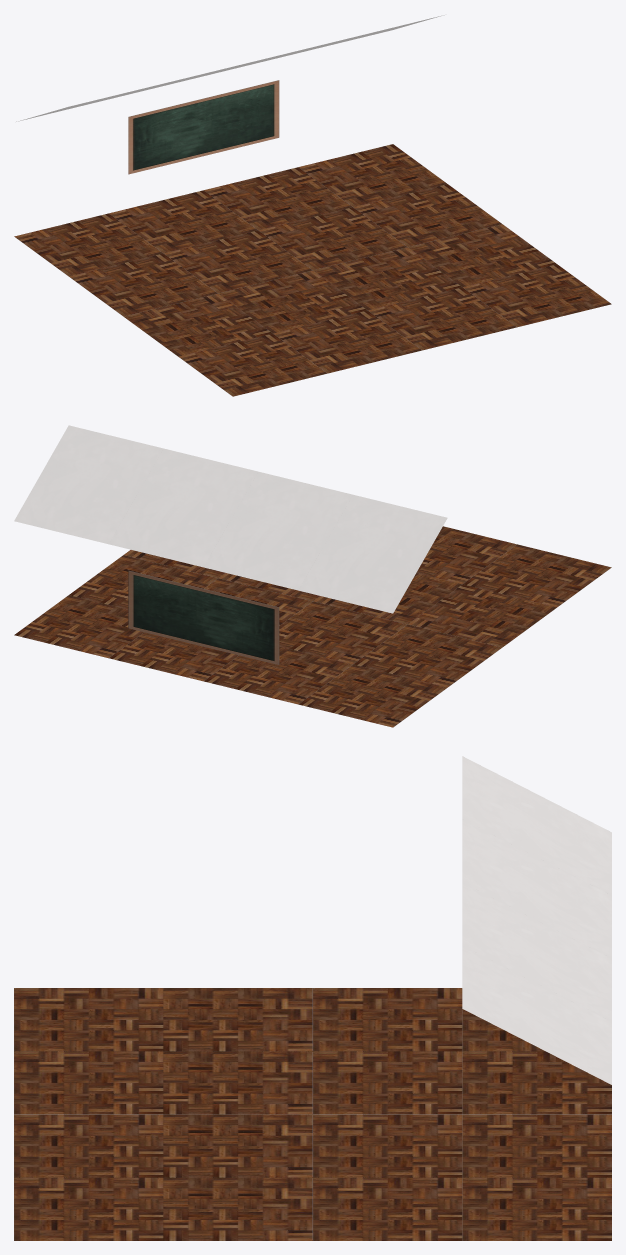
File: CENARIO - calculo.glb
3 renders of one model, top to bottom at view 1: azimuth 30°, elevation 25°; view 2: azimuth 150°, elevation 25°; view 3: azimuth 270°, elevation 25°, orthographic. The views are drawn at different scales.
Visible parts, largest first — view 1: piso, quadro, teto; view 2: piso, teto, quadro; view 3: piso, teto.
Boxes of the visible parts, x1,y1,x2,y2 form: piso: [14, 144, 611, 396]; quadro: [128, 80, 279, 174]; teto: [16, 15, 444, 121]; piso: [14, 526, 611, 727]; teto: [14, 425, 447, 613]; quadro: [128, 570, 279, 664]; piso: [14, 988, 611, 1240]; teto: [462, 756, 611, 1084].
Size of the model in its own units: 1000 by 428 by 1000.
1 material, 1 textured.
